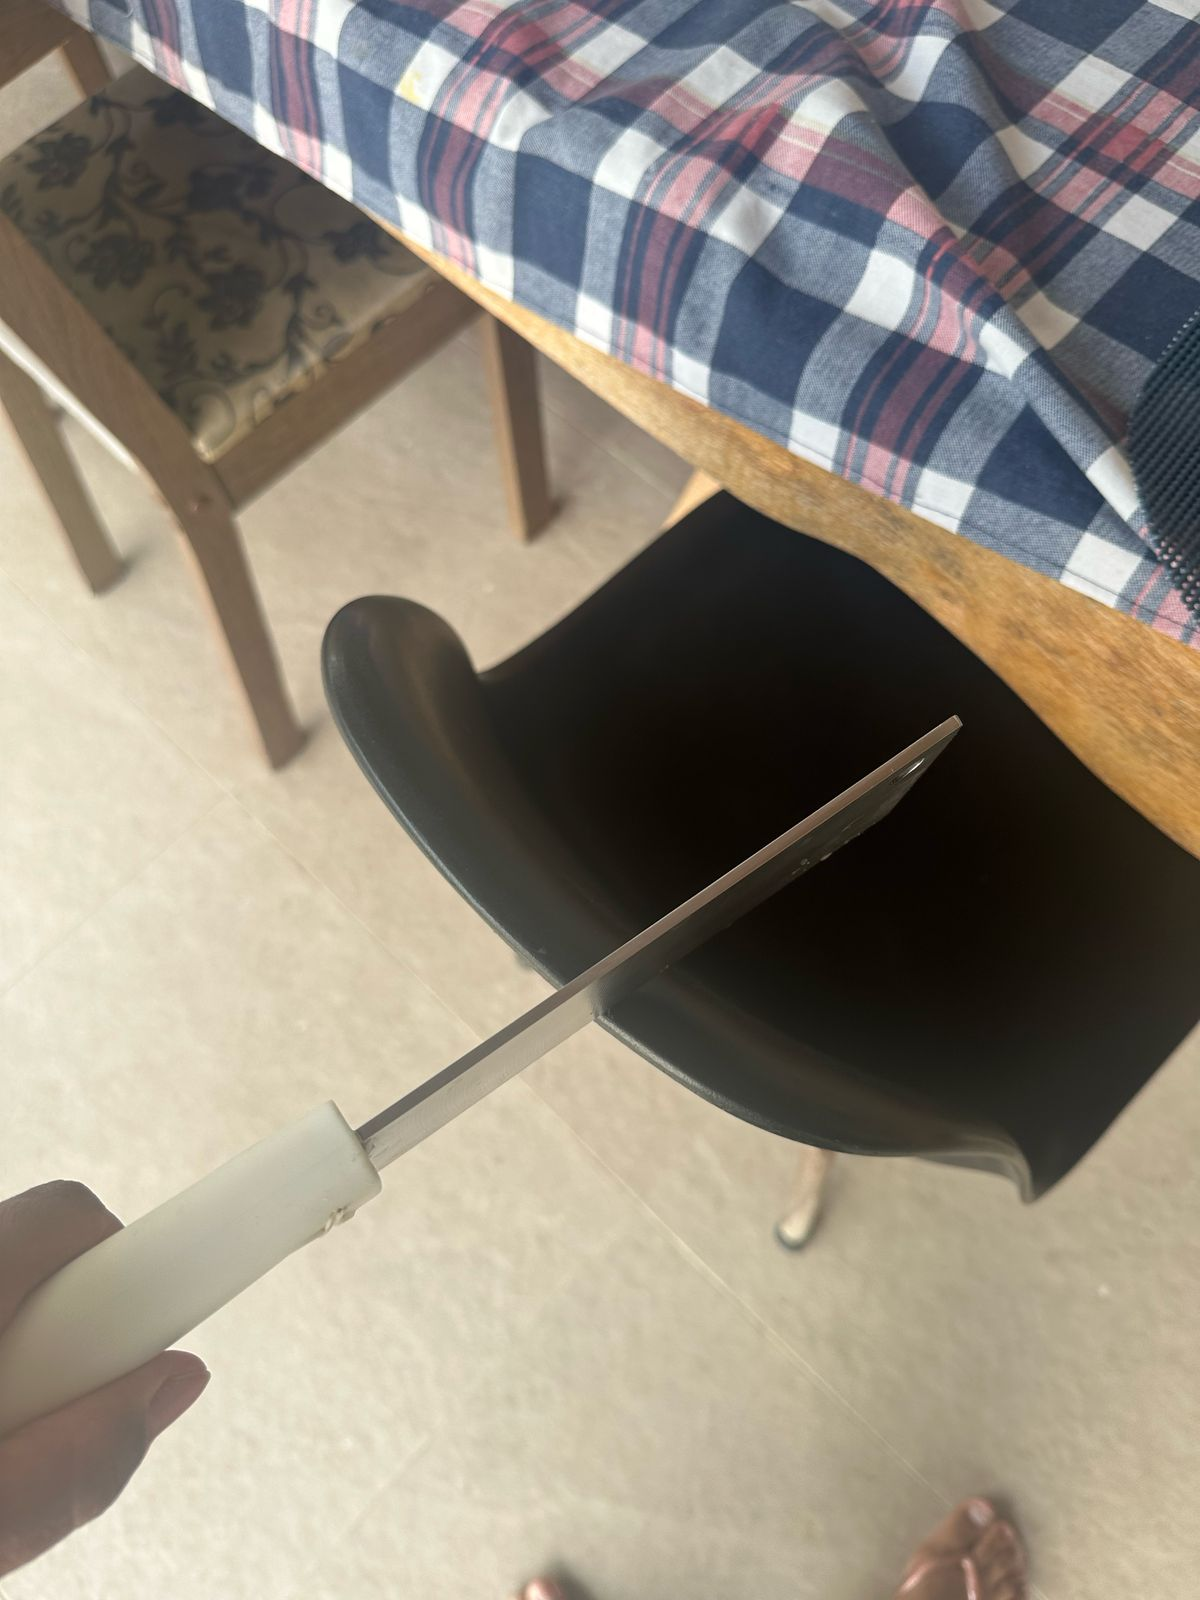faca: (126, 698, 975, 1325)
